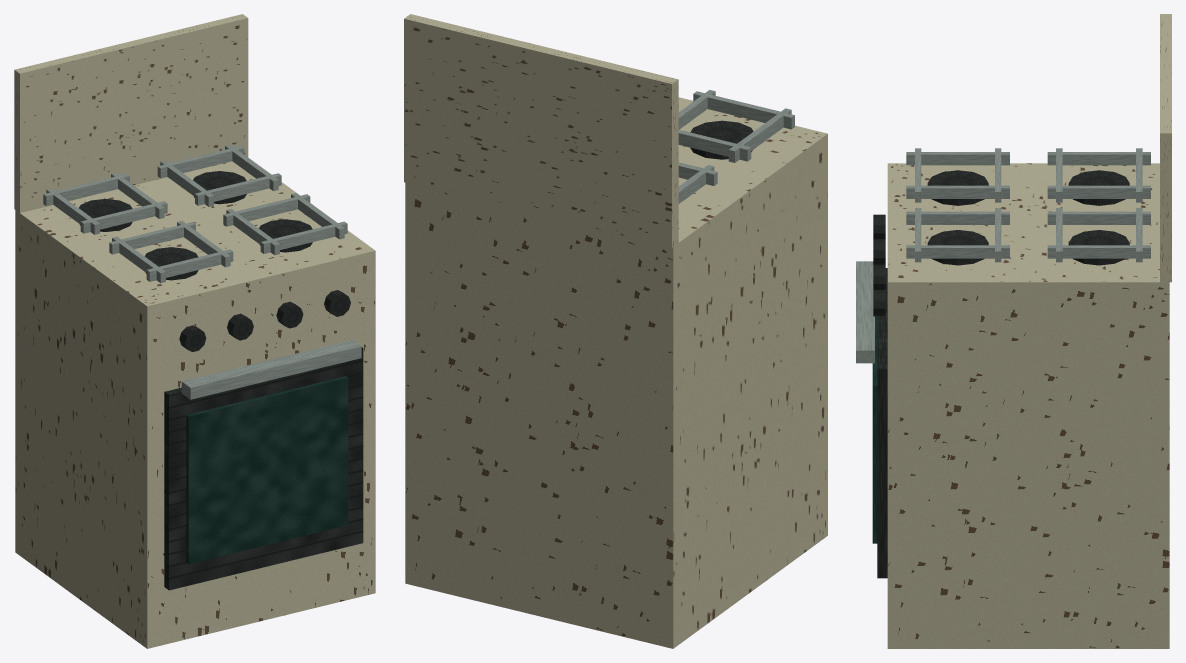
Rendered from CIS_GasStove.obj.
The picture shows the model from 3 angles, left to right: view 1: azimuth 30°, elevation 25°; view 2: azimuth 150°, elevation 25°; view 3: azimuth 270°, elevation 25°; orthographic projection. The views are drawn at different scales.
Visible parts, largest first — view 1: CIS_GasStove; view 2: CIS_GasStove; view 3: CIS_GasStove.
Part boxes in pixels (x1,y1,x2,y2): CIS_GasStove: [14, 14, 375, 648]; CIS_GasStove: [404, 14, 827, 648]; CIS_GasStove: [856, 14, 1171, 648].
Bounding box in the file's own units: 0.6 × 1.21 × 0.6715.
4 materials, 4 textured.
